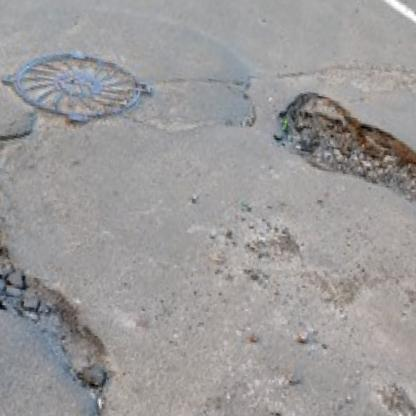pothole: (0, 122, 149, 396), (266, 86, 416, 218)
